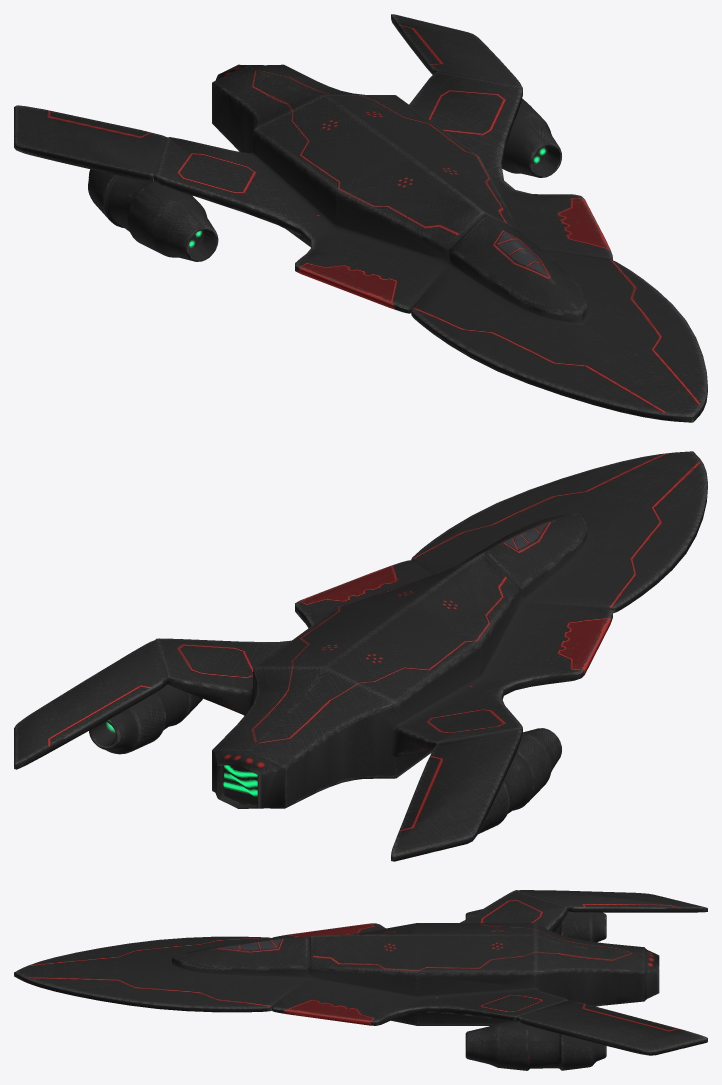
Rendered from frigate.glb.
3 views of the same model, one above another, from view 1: azimuth 30°, elevation 25°; view 2: azimuth 150°, elevation 25°; view 3: azimuth 270°, elevation 25° (orthographic). The views are drawn at different scales.
Parts seen in each view (by area): view 1: frigate_0; view 2: frigate_0; view 3: frigate_0.
Part boxes in pixels (box(x1,y1,x2,y2)): frigate_0: box(14, 14, 707, 422); frigate_0: box(14, 451, 707, 861); frigate_0: box(14, 890, 707, 1070).
Size of the model in its own units: 0.5388 by 0.126 by 1.
Materials: 1 (1 with a texture image).
